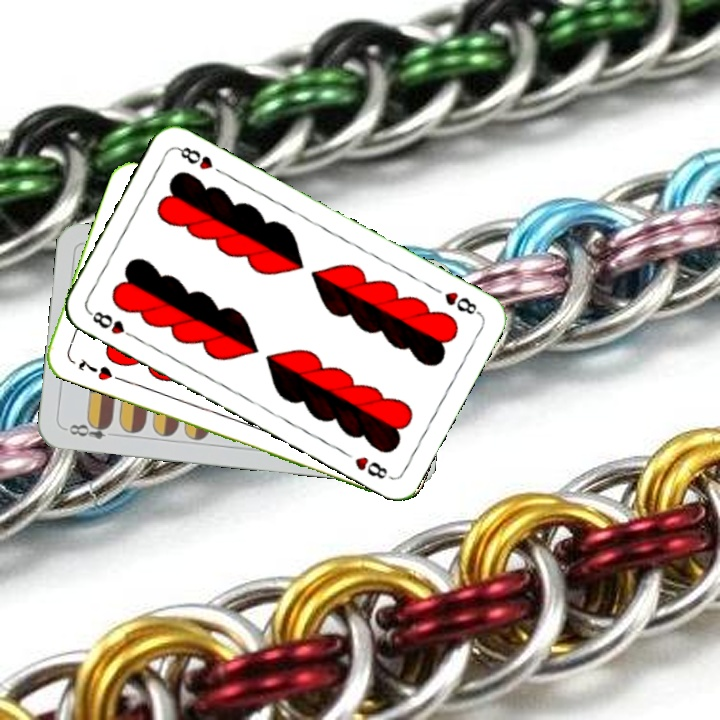E8: (62, 417, 114, 442)
H7: (74, 354, 115, 383)
H8: (85, 307, 139, 342), (440, 287, 483, 318)
